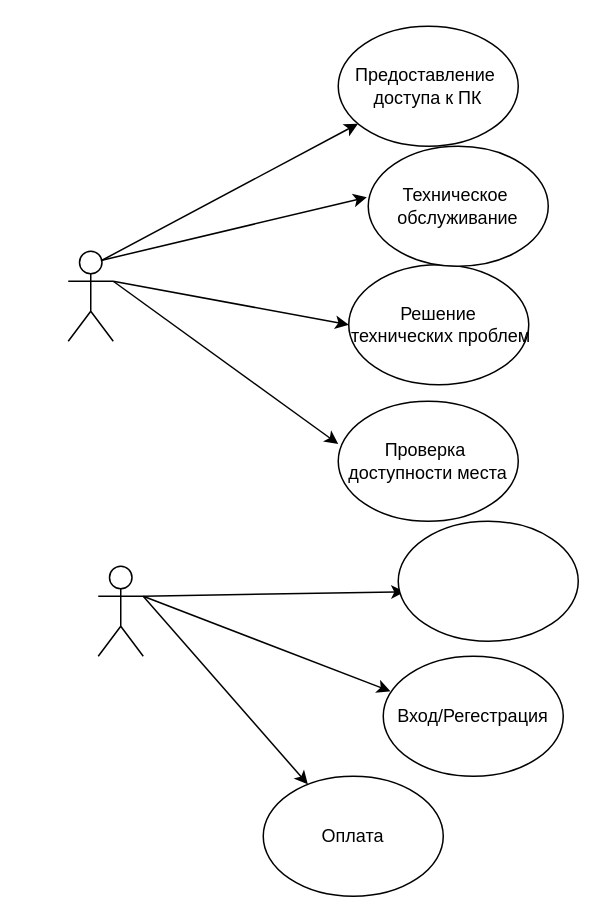
Some shapes in this 605 by 923 pixel diagram are drawn without their labels. The box of each missing label's shape, as (x1, y1, x2, y2) in pixels:
Администратор: (67, 250, 113, 341)
Клиент: (97, 565, 143, 656)
